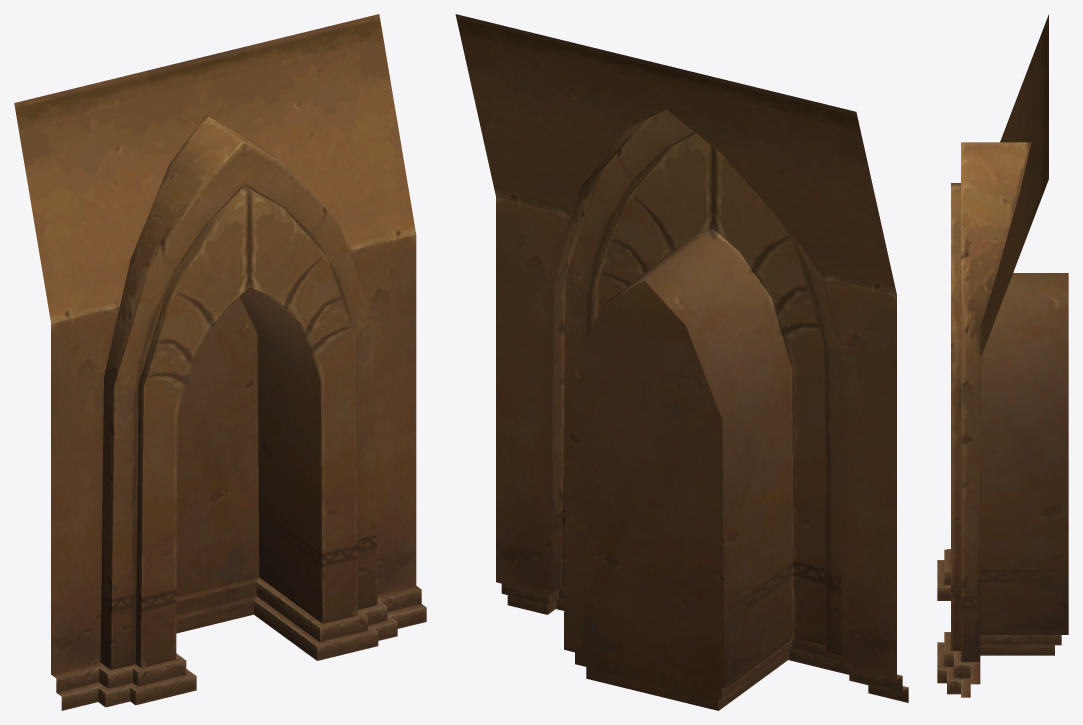
File: shakian_cliff_base6_wall02_01.FBX
The picture shows the model from 3 angles, left to right: view 1: azimuth 30°, elevation 25°; view 2: azimuth 150°, elevation 25°; view 3: azimuth 270°, elevation 25°; orthographic projection. The views are drawn at different scales.
Visible parts, largest first — view 1: shakian_cliff_base6_wall02_01; view 2: shakian_cliff_base6_wall02_01; view 3: shakian_cliff_base6_wall02_01.
Boxes of the visible parts, x1,y1,x2,y2 form: shakian_cliff_base6_wall02_01: (14,14,426,710); shakian_cliff_base6_wall02_01: (455,14,908,710); shakian_cliff_base6_wall02_01: (937,14,1068,697).
Bounding box in the file's own units: 4 × 6 × 1.34.
